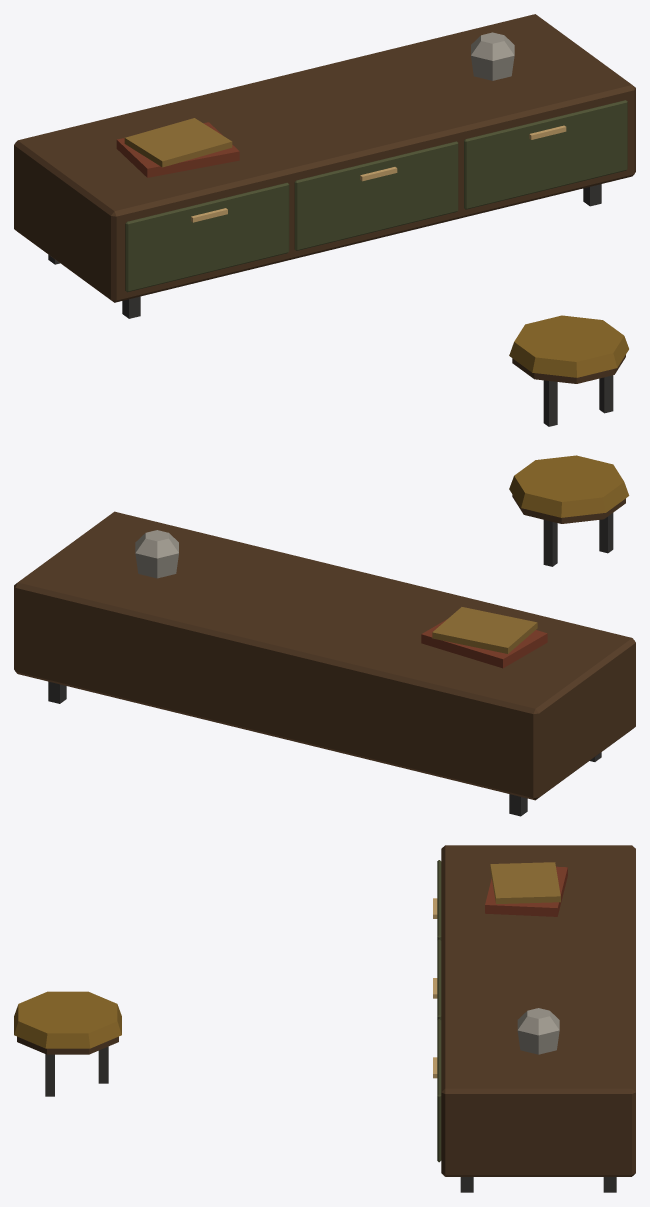
The picture shows the model from 3 angles, top to bottom: view 1: azimuth 30°, elevation 25°; view 2: azimuth 150°, elevation 25°; view 3: azimuth 270°, elevation 25°; orthographic projection. The views are drawn at different scales.
Parts seen in each view (by area): view 1: furniture_7_desk_rare_sideboard; view 2: furniture_7_desk_rare_sideboard; view 3: furniture_7_desk_rare_sideboard.
Boxes of the visible parts, x1,y1,x2,y2 form: furniture_7_desk_rare_sideboard: [14, 14, 635, 426]; furniture_7_desk_rare_sideboard: [14, 455, 635, 816]; furniture_7_desk_rare_sideboard: [14, 845, 635, 1192].
Size of the model in its own units: 3.6 by 1 by 3.83.
